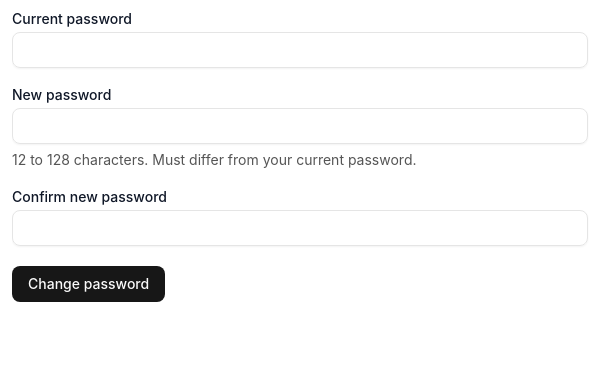
Scenario: PasswordForm › shows a form-level error and leaves every input empty
Type "old-password-1" into the password field labelled "Current password" at {"x": 300, "y": 50}, box [12,32,588,68]
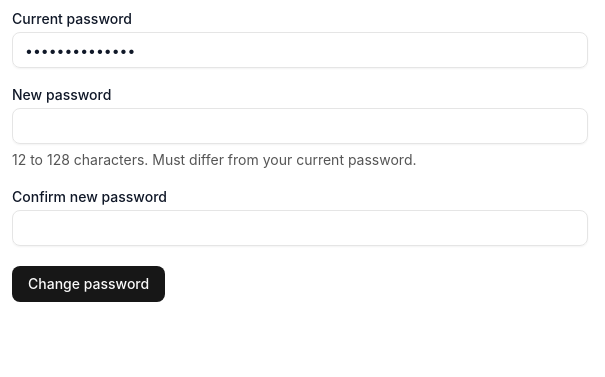
Type "new-password-12" into the password field labelled "New password" at {"x": 300, "y": 126}, box [12,108,588,144]
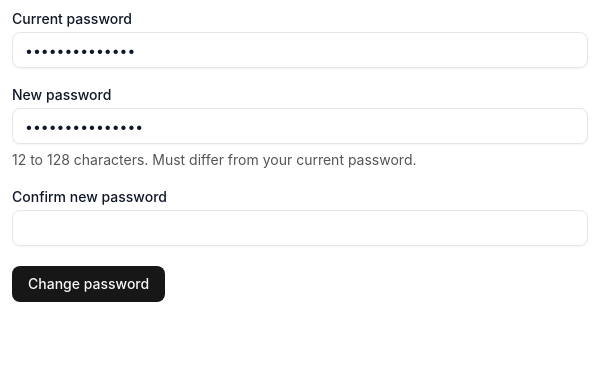
Type "new-password-12" into the password field labelled "Confirm new password" at {"x": 300, "y": 228}, box [12,210,588,246]
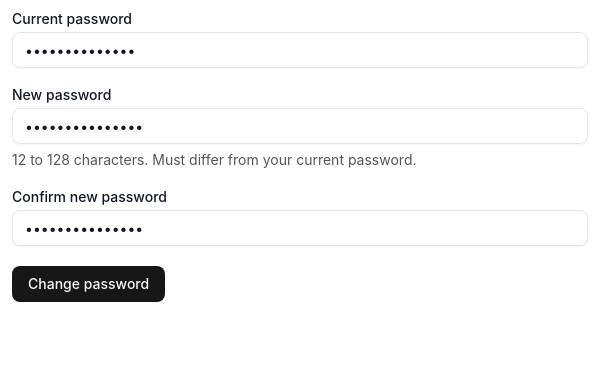
Submit the form
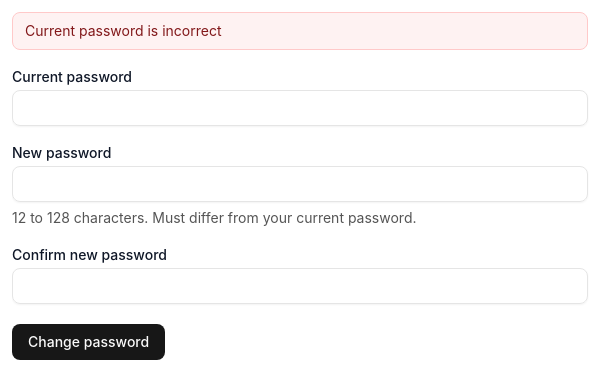
Expected: the message reads "Current password is incorrect", [25,22,222,39]
Expected: the password field labelled "Current password" is empty, [12,90,588,126]
Expected: the password field labelled "New password" is empty, [12,166,588,202]
